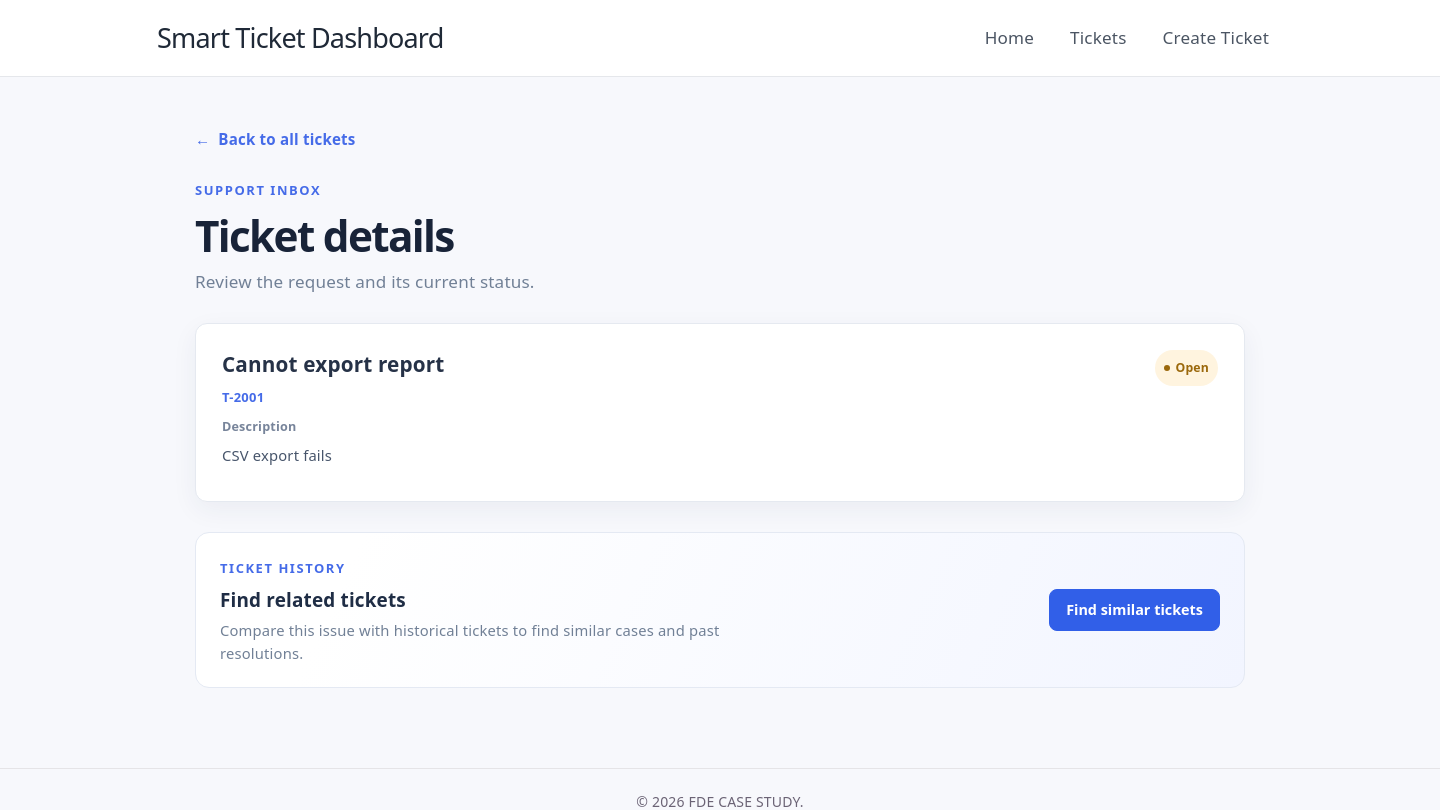
Test case: TicketDetails › shows a search failure to the agent
Check: the heading "Cannot export report" is shown, box [222,350,444,379]
Click the button "Find similar tickets".
click(1135, 610)  # box [1049,589,1220,631]
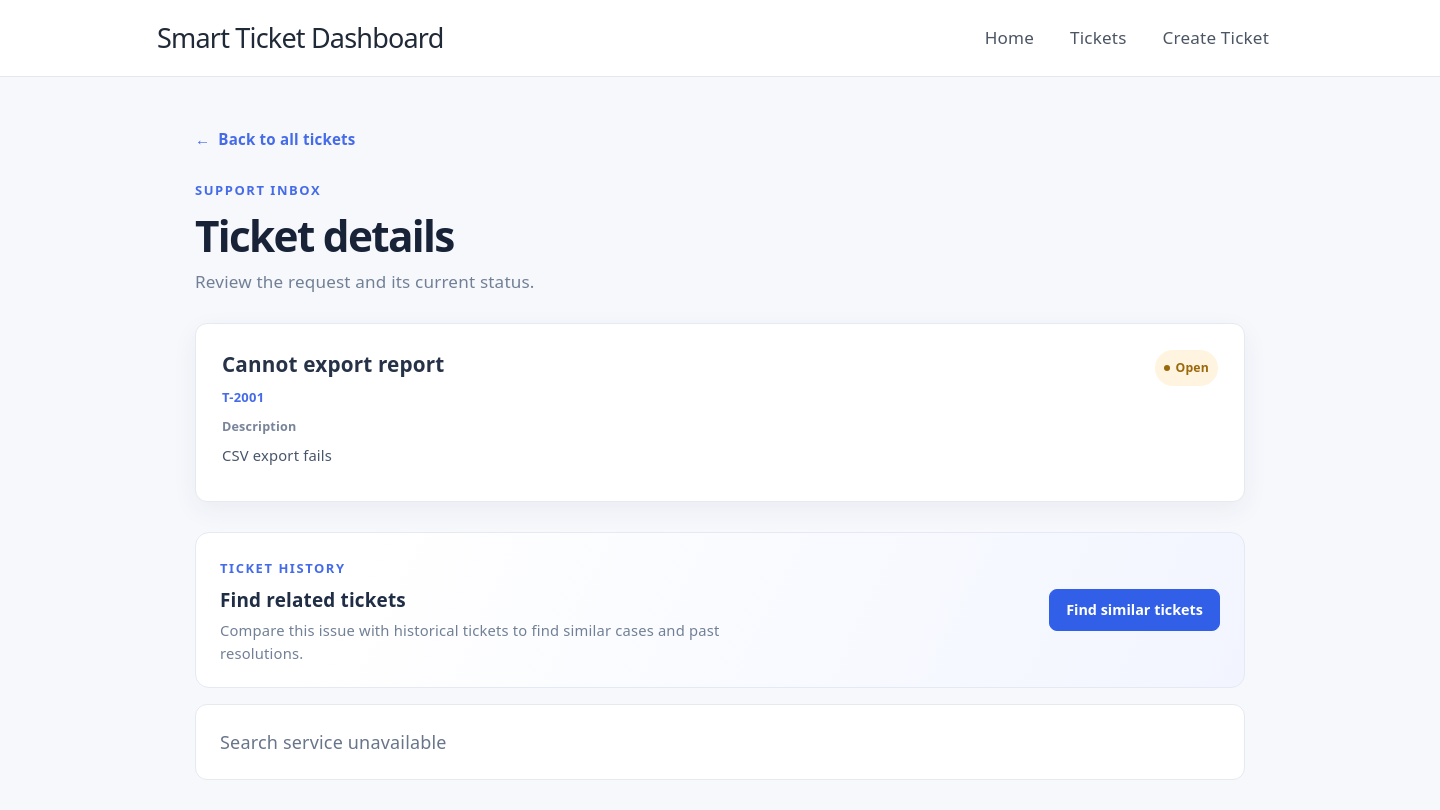
Check: the message reads "Search service unavailable", box [220,730,447,754]
